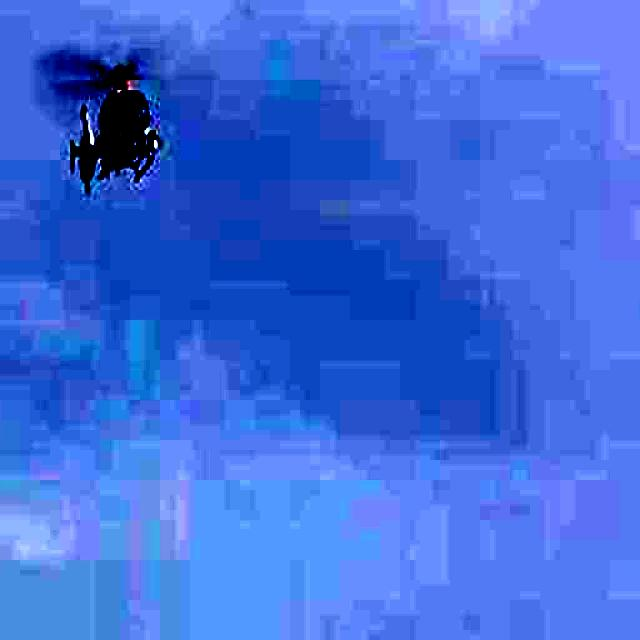drone: (46, 32, 202, 212)
